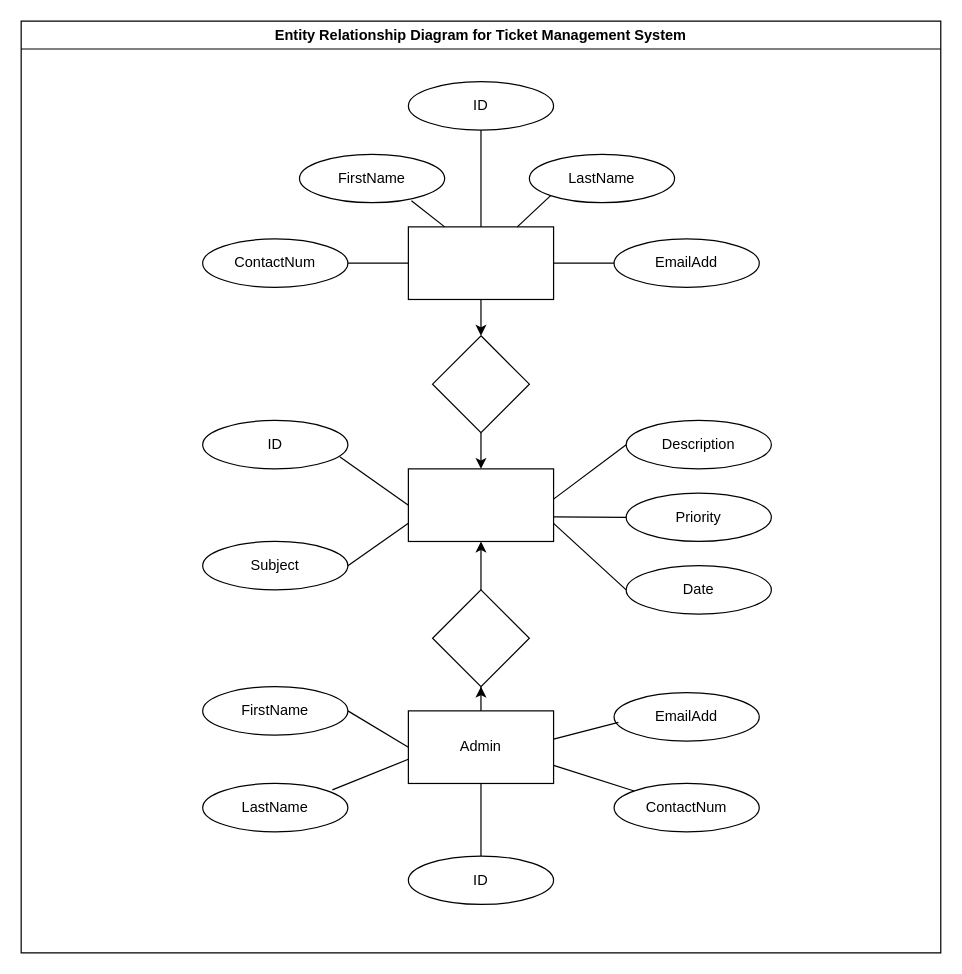
Some shapes in this 962 by 974 pixel diagram are drawn without their labels. Each missing label, with the centre of its shape:
"Employee" goes at pixel 480 262.
"Manage" goes at pixel 480 638.
"Raise" goes at pixel 480 384.
"Ticket" goes at pixel 480 504.
